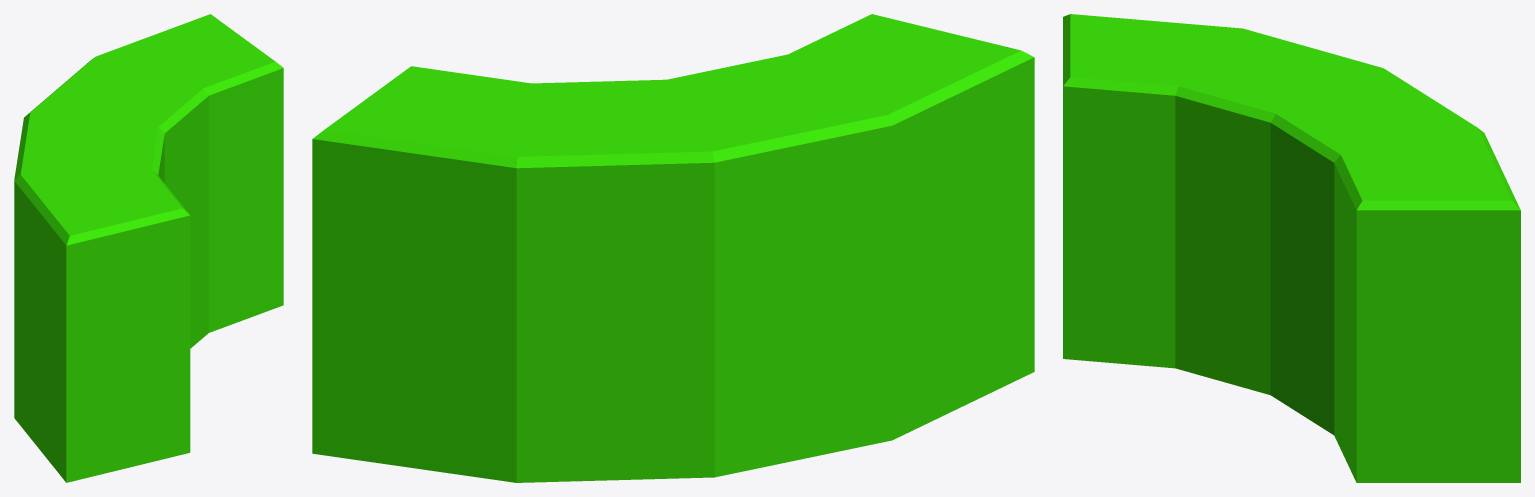
File: round_3x2_01.fbx
The picture shows the model from 3 angles, left to right: view 1: azimuth 30°, elevation 25°; view 2: azimuth 150°, elevation 25°; view 3: azimuth 270°, elevation 25°; orthographic projection. The views are drawn at different scales.
Visible parts, largest first — view 1: round_3x2_01; view 2: round_3x2_01; view 3: round_3x2_01.
Boxes of the visible parts, left/top/right/bottom form: round_3x2_01: left=14, top=14, right=283, bottom=482; round_3x2_01: left=312, top=14, right=1034, bottom=482; round_3x2_01: left=1063, top=14, right=1520, bottom=482.
Size of the model in its own units: 312 by 210 by 312.
